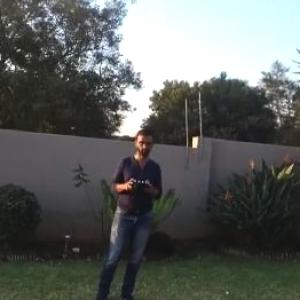follow: (85, 121, 168, 299)
